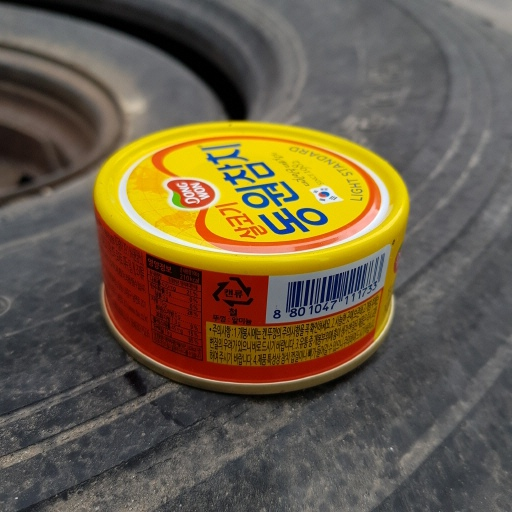Metal_1: (94, 117, 412, 393)
